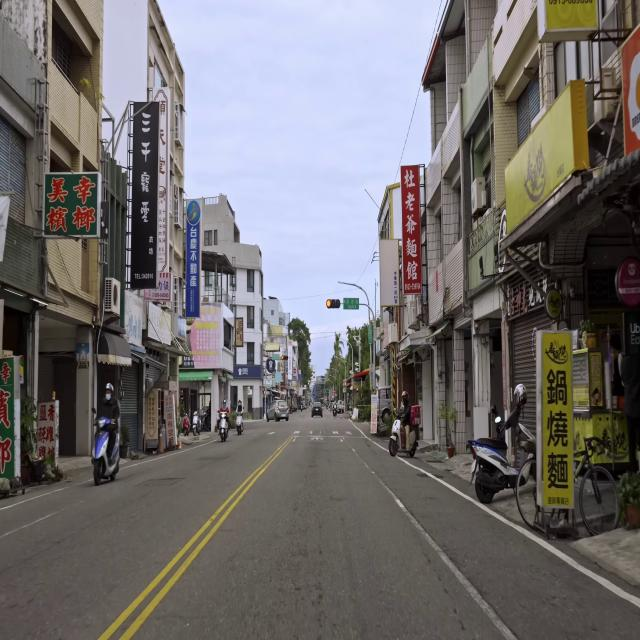red light: (326, 299, 341, 309), (281, 355, 288, 360)
